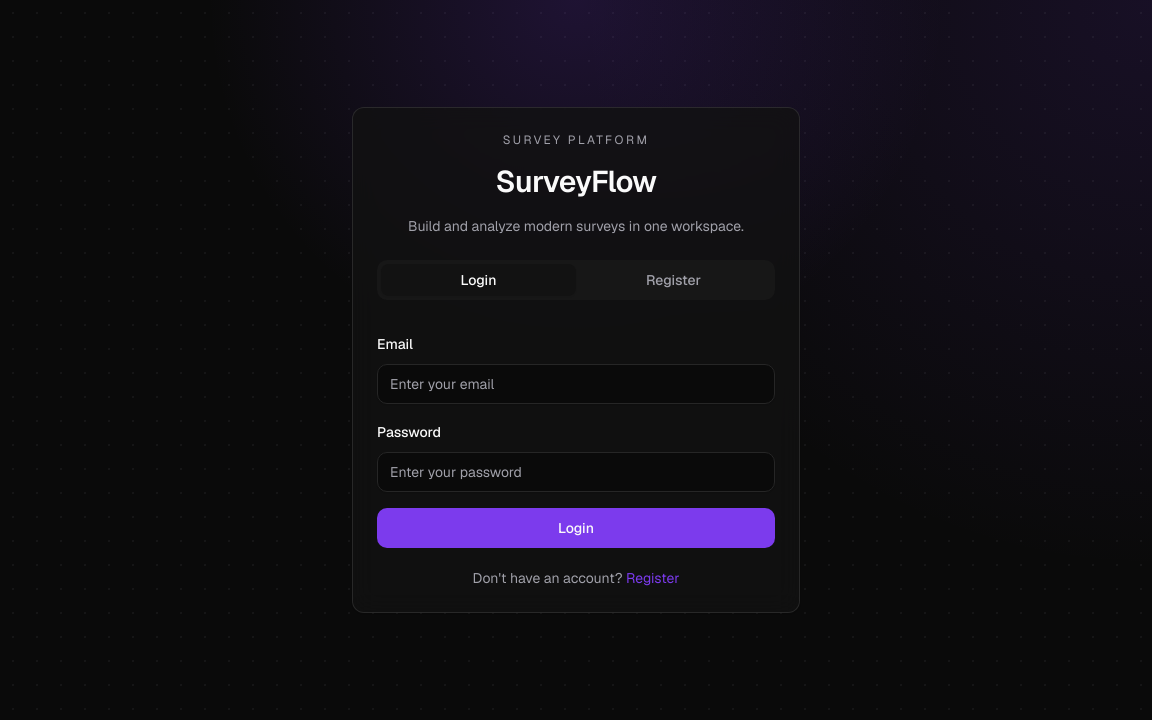
it: AuthPage component › shows password rule errors in register mode for invalid password
Click the button with test id "toggle-mode" at coordinates (653, 578), box [626,568,680,588]
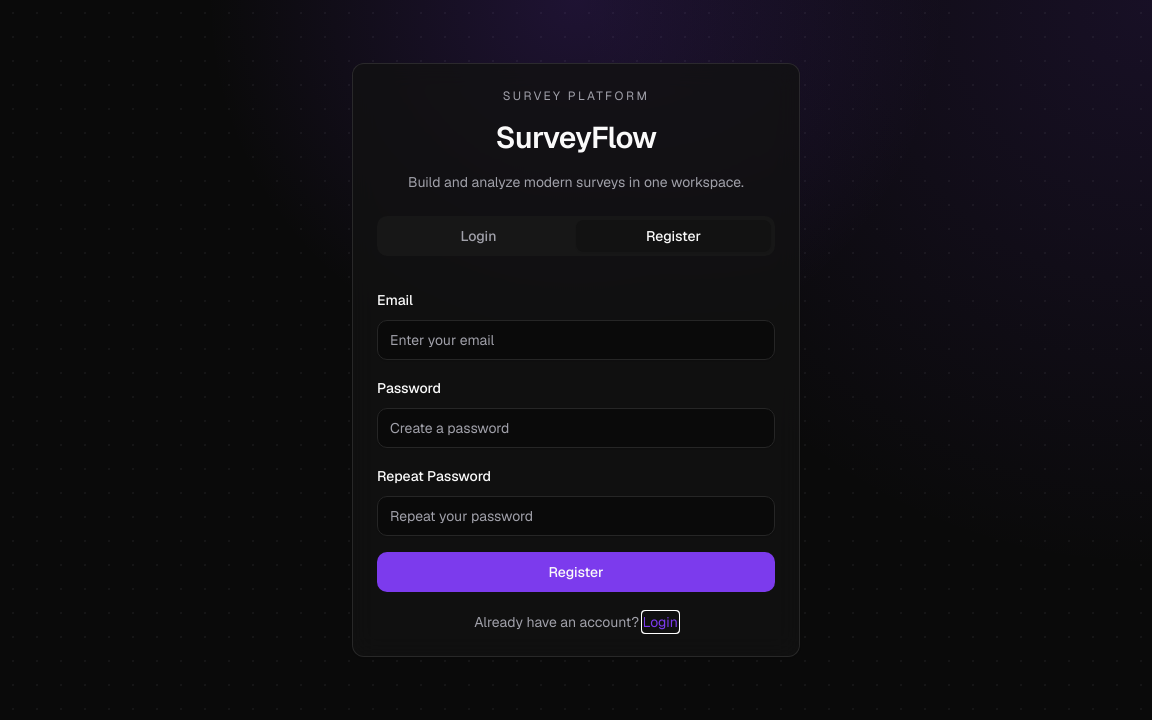
Type "abc" into the password field labelled "Password" at coordinates (576, 428), box [377,408,775,448]
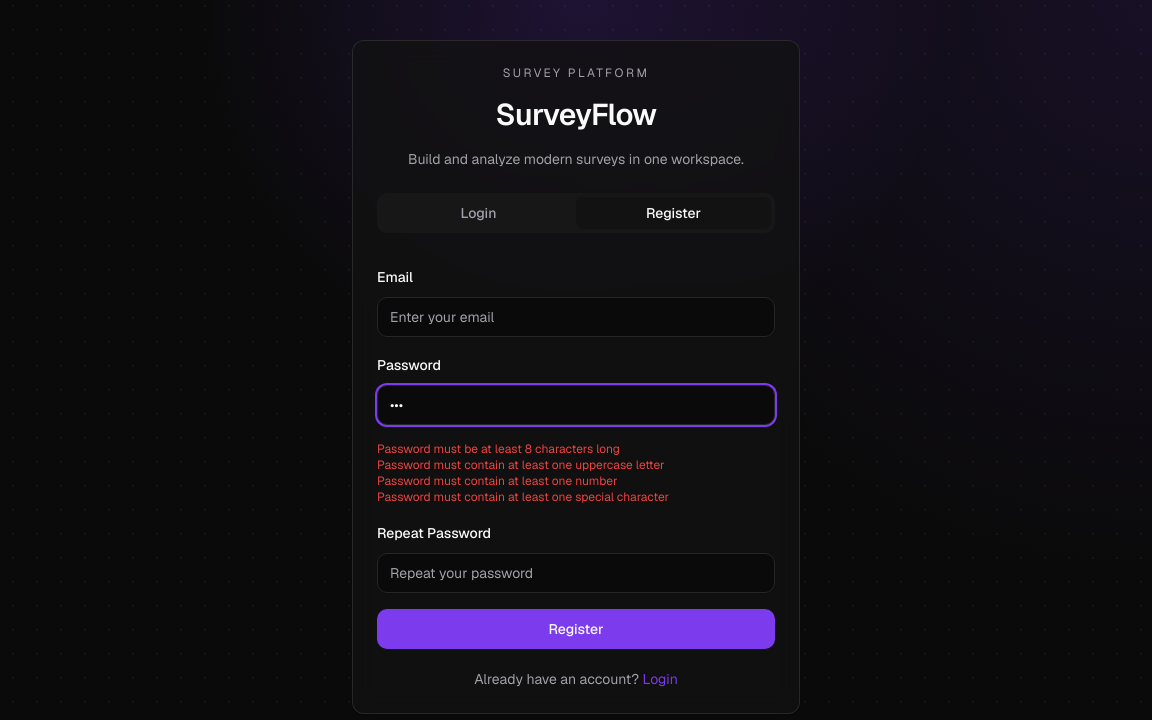
Result: the text with test id "info-error" shows "Password must be at least 8 characters long" at [377,441,669,505]
Result: the text with test id "info-error" shows "Password must contain at least one uppercase letter" at [377,441,669,505]
